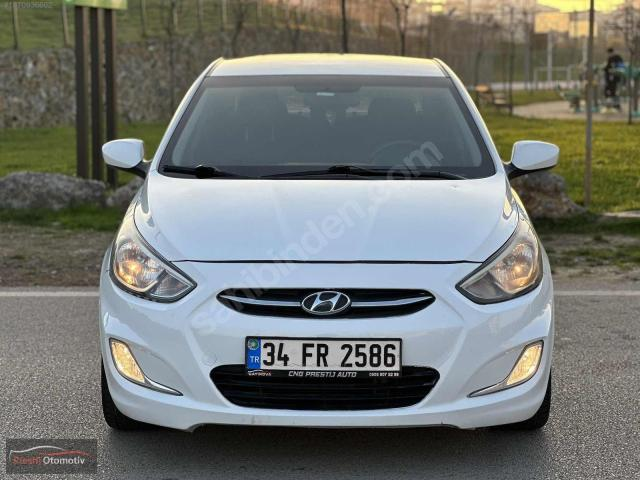plaka: (246, 338, 401, 377)
